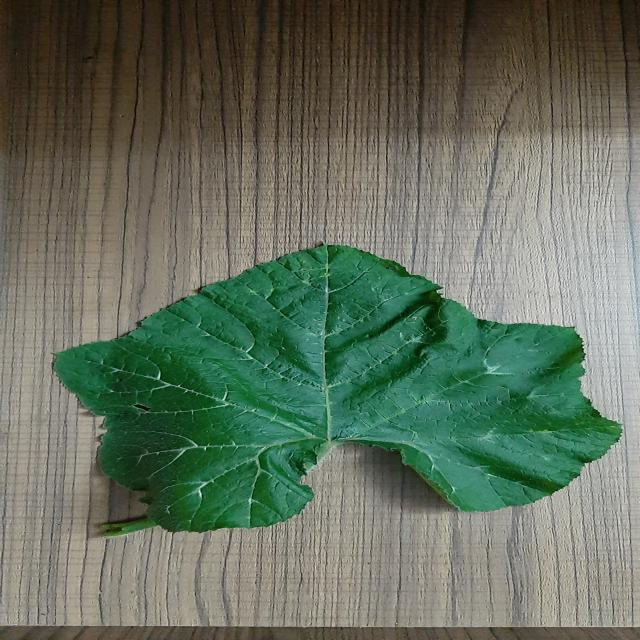pumpkin: (57, 245, 621, 531)
